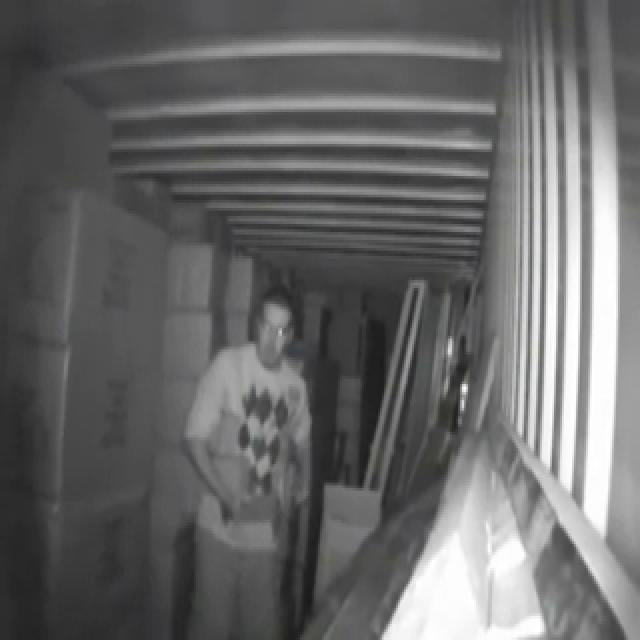burglary: (169, 168, 461, 637)
